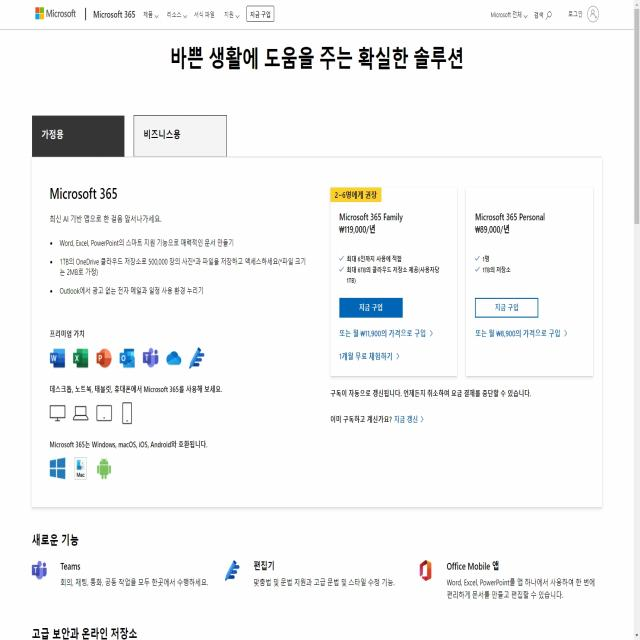menu-bar: (139, 1, 279, 28), (484, 2, 605, 28)
